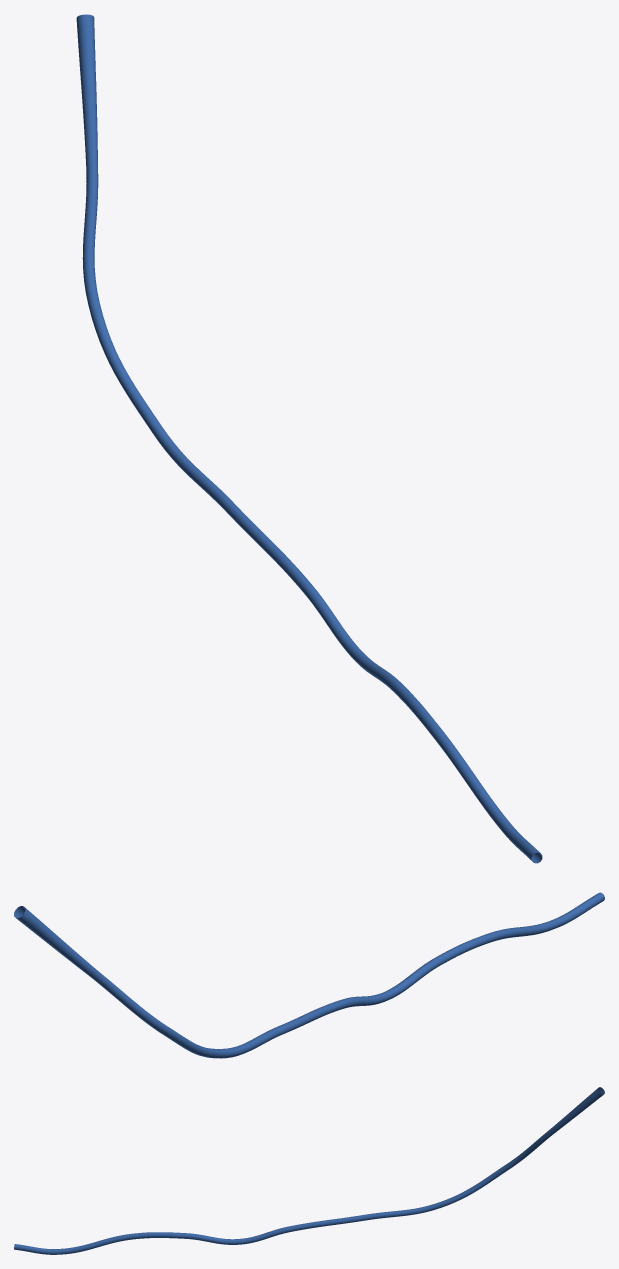
3 renders of one model, top to bottom at view 1: azimuth 30°, elevation 25°; view 2: azimuth 150°, elevation 25°; view 3: azimuth 270°, elevation 25°, orthographic. The views are drawn at different scales.
Visible parts, largest first — view 1: 左侧腹壁下静脉; view 2: 左侧腹壁下静脉; view 3: 左侧腹壁下静脉.
Boxes of the visible parts, <box> form: 左侧腹壁下静脉: <box>76,14,542,863</box>; 左侧腹壁下静脉: <box>14,892,604,1058</box>; 左侧腹壁下静脉: <box>14,1087,604,1254</box>.
Size of the model in its own units: 0.0424 by 0.1082 by 0.2944.
